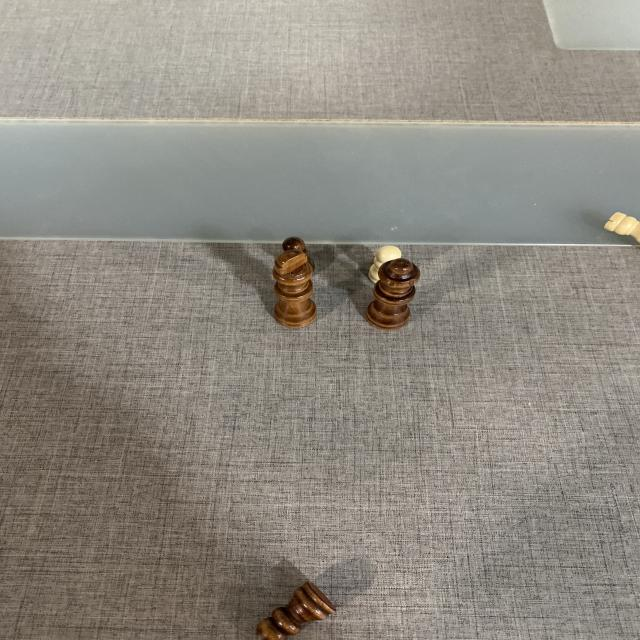Black-King: (272, 250, 318, 330)
Black-Pawn: (253, 578, 337, 640), (282, 236, 312, 260)
Black-Queen: (365, 258, 423, 331)
White-Pawn: (368, 245, 403, 282)
